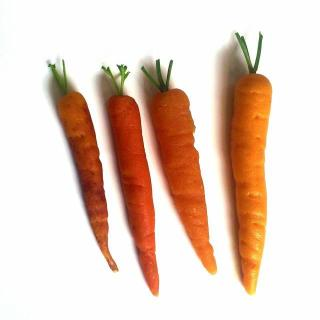carrot: (55, 89, 121, 273), (154, 86, 216, 276), (106, 93, 160, 294), (229, 72, 273, 296)
